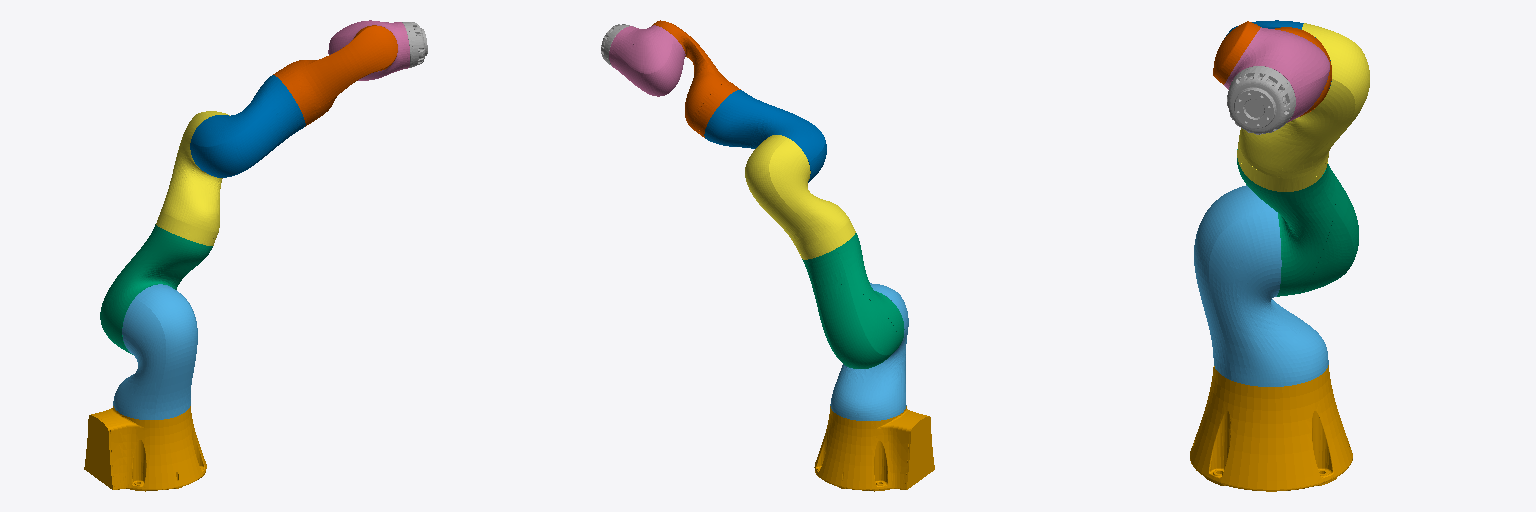
The robot description file, URDF, robot "iiwa_6_DOF_narrowest_range":
<?xml version="1.0" encoding="UTF-8"?>
<robot name="iiwa_6_DOF_narrowest_range">
  <joint name="iiwa_joint_1" type="revolute">
    <origin xyz="0. -0.0093516 0.1575 " rpy="0. 0. 0."/>
    <parent link="world"/>
    <child link="iiwa_link_1"/>
    <axis xyz="0. 0. 1."/>
    <limit lower="-2.0943951" upper="2.0943951" effort="300." velocity="9.9999995"/>
  </joint>
  <joint name="iiwa_joint_2" type="revolute">
    <origin xyz="-0. -0. 0.2025" rpy="1.5707963 -0. -2.9618237"/>
    <parent link="iiwa_link_1"/>
    <child link="iiwa_link_2"/>
    <axis xyz="0. 0. 1."/>
    <limit lower="-1.3089969" upper="1.3089969" effort="300." velocity="9.9999995"/>
  </joint>
  <joint name="iiwa_joint_3" type="revolute">
    <origin xyz="-0.0950602 0.1810629 0. " rpy="1.5707964 -0.0000001 -2.6581364"/>
    <parent link="iiwa_link_2"/>
    <child link="iiwa_link_3"/>
    <axis xyz="0. 0. 1."/>
    <limit lower="-1.3089969" upper="1.3089969" effort="300." velocity="9.9999995"/>
  </joint>
  <joint name="iiwa_joint_4" type="revolute">
    <origin xyz="-0. -0. 0.2154999" rpy="1.5707963 -0.0000001 -0.3577924"/>
    <parent link="iiwa_link_3"/>
    <child link="iiwa_link_4"/>
    <axis xyz="0. 0. 1."/>
    <limit lower="-1.5707963" upper="1.5707963" effort="300." velocity="9.9999995"/>
  </joint>
  <joint name="iiwa_joint_5" type="revolute">
    <origin xyz="0.120556 0.1396656 -0. " rpy="1.5707964 -0. 2.4294987"/>
    <parent link="iiwa_link_4"/>
    <child link="iiwa_link_5"/>
    <axis xyz="0. 0. 1."/>
    <limit lower="-1.5707963" upper="1.5707963" effort="300." velocity="9.9999995"/>
  </joint>
  <joint name="iiwa_joint_6" type="revolute">
    <origin xyz="0. -0. 0.2155" rpy="1.5707964 0.0000001 -0.3647734"/>
    <parent link="iiwa_link_5"/>
    <child link="iiwa_link_6"/>
    <axis xyz="0. 0. 1."/>
    <limit lower="-1.3962634" upper="1.3962634" effort="300." velocity="9.9999995"/>
  </joint>
  <joint name="iiwa_joint_7" type="revolute">
    <origin xyz="-0.0317793 0.0745055 0. " rpy="1.5707963 -0.0000002 -2.738422 "/>
    <parent link="iiwa_link_6"/>
    <child link="iiwa_link_7"/>
    <axis xyz="0. 0. 1."/>
    <limit lower="0." upper="0." effort="300." velocity="9.9999995"/>
  </joint>
  <joint name="root_joint" type="fixed">
    <origin xyz="-0. 0.0093516 -0.0000001" rpy="0. 0. 0."/>
    <parent link="iiwa14"/>
    <child link="world"/>
  </joint>
  <link name="iiwa14"/>
  <link name="iiwa_link_1">
    <inertial>
      <origin xyz="0. -0.03 0.12" rpy="0. 0. 0."/>
      <mass value="4."/>
      <inertia ixx="0.1" ixy="0." ixz="0." iyy="0.09" iyz="0." izz="0.02"/>
    </inertial>
    <visual>
      <origin xyz="-0.0000001 -0. -0. " rpy="0. 0. 0.1797689"/>
      <geometry>
        <mesh filename="meshes/iiwa_link_1_visuals_link_1_mesh.obj" scale="1. 1. 1."/>
      </geometry>
    </visual>
    <visual>
      <origin xyz="-0.0000001 -0. -0. " rpy="0. 0. 0.1797689"/>
      <geometry>
        <mesh filename="meshes/iiwa_link_1_collisions_link_1_mesh.obj" scale="1. 1. 1."/>
      </geometry>
    </visual>
  </link>
  <link name="iiwa_link_2">
    <inertial>
      <origin xyz="0.0003 0.059 0.042 " rpy="0. 0. 0."/>
      <mass value="4."/>
      <inertia ixx="0.05" ixy="0." ixz="0." iyy="0.018" iyz="0." izz="0.044"/>
    </inertial>
    <visual>
      <origin xyz="0. -0.0000001 0. " rpy="-0. 0.0000001 0.4834562"/>
      <geometry>
        <mesh filename="meshes/iiwa_link_2_visuals_link_2_mesh.obj" scale="1. 1. 1."/>
      </geometry>
    </visual>
    <visual>
      <origin xyz="0. -0.0000001 0. " rpy="-0. 0.0000001 0.4834562"/>
      <geometry>
        <mesh filename="meshes/iiwa_link_2_collisions_link_2_mesh.obj" scale="1. 1. 1."/>
      </geometry>
    </visual>
  </link>
  <link name="iiwa_link_3">
    <inertial>
      <origin xyz="0. 0.03 0.13" rpy="0. 0. 0."/>
      <mass value="3."/>
      <inertia ixx="0.08" ixy="0." ixz="0." iyy="0.075" iyz="0." izz="0.01"/>
    </inertial>
    <visual>
      <origin xyz="0. -0. -0.0000001" rpy="-0. -0.0000001 -0.3577924"/>
      <geometry>
        <mesh filename="meshes/iiwa_link_3_visuals_link_3_mesh.obj" scale="1. 1. 1."/>
      </geometry>
    </visual>
    <visual>
      <origin xyz="0. -0. -0.0000001" rpy="-0. -0.0000001 -0.3577924"/>
      <geometry>
        <mesh filename="meshes/iiwa_link_3_collisions_link_3_mesh.obj" scale="1. 1. 1."/>
      </geometry>
    </visual>
  </link>
  <link name="iiwa_link_4">
    <inertial>
      <origin xyz="0. 0.067 0.034" rpy="0. 0. 0."/>
      <mass value="2.7"/>
      <inertia ixx="0.03" ixy="0." ixz="0." iyy="0.01" iyz="0." izz="0.029"/>
    </inertial>
    <visual>
      <origin xyz="-0. 0. -0." rpy="-0.0000001 -0.0000001 -0.7120941"/>
      <geometry>
        <mesh filename="meshes/iiwa_link_4_visuals_link_4_mesh.obj" scale="1. 1. 1."/>
      </geometry>
    </visual>
    <visual>
      <origin xyz="-0. 0. -0." rpy="-0.0000001 -0.0000001 -0.7120941"/>
      <geometry>
        <mesh filename="meshes/iiwa_link_4_collisions_link_4_mesh.obj" scale="1. 1. 1."/>
      </geometry>
    </visual>
  </link>
  <link name="iiwa_link_5">
    <inertial>
      <origin xyz="0.0001 0.021 0.076 " rpy="0. 0. 0."/>
      <mass value="1.7"/>
      <inertia ixx="0.02" ixy="0." ixz="0." iyy="0.018" iyz="0." izz="0.005"/>
    </inertial>
    <visual>
      <origin xyz="0. -0. -0." rpy="0. 0.0000001 -0.3647734"/>
      <geometry>
        <mesh filename="meshes/iiwa_link_5_visuals_link_5_mesh.obj" scale="1. 1. 1."/>
      </geometry>
    </visual>
    <visual>
      <origin xyz="0. -0. -0." rpy="0. 0.0000001 -0.3647734"/>
      <geometry>
        <mesh filename="meshes/iiwa_link_5_collisions_link_5_mesh.obj" scale="1. 1. 1."/>
      </geometry>
    </visual>
  </link>
  <link name="iiwa_link_6">
    <inertial>
      <origin xyz="0. 0.0006 0.0004" rpy="0. 0. 0."/>
      <mass value="1.8"/>
      <inertia ixx="0.005" ixy="0." ixz="0." iyy="0.0036" iyz="0." izz="0.0047"/>
    </inertial>
    <visual>
      <origin xyz="-0. -0. -0." rpy="0.0000001 0.0000001 0.4031708"/>
      <geometry>
        <mesh filename="meshes/iiwa_link_6_visuals_link_6_mesh.obj" scale="1. 1. 1."/>
      </geometry>
    </visual>
    <visual>
      <origin xyz="-0. -0. -0." rpy="0.0000001 0.0000001 0.4031708"/>
      <geometry>
        <mesh filename="meshes/iiwa_link_6_collisions_link_6_mesh.obj" scale="1. 1. 1."/>
      </geometry>
    </visual>
  </link>
  <link name="iiwa_link_7">
    <inertial>
      <origin xyz="0. 0. 0.02" rpy="0. 0. 0."/>
      <mass value="0.3"/>
      <inertia ixx="0.001" ixy="0." ixz="0." iyy="0.001" iyz="0." izz="0.001"/>
    </inertial>
    <visual>
      <origin xyz="-0. -0. 0." rpy="0.0000001 -0. -0. "/>
      <geometry>
        <mesh filename="meshes/iiwa_link_7_visuals_link_7_mesh.obj" scale="1. 1. 1."/>
      </geometry>
    </visual>
    <visual>
      <origin xyz="-0. -0. 0." rpy="0.0000001 -0. -0. "/>
      <geometry>
        <mesh filename="meshes/iiwa_link_7_collisions_link_7_mesh.obj" scale="1. 1. 1."/>
      </geometry>
    </visual>
  </link>
  <link name="world">
    <inertial>
      <origin xyz="-0.1 0. 0.07" rpy="0. 0. 0."/>
      <mass value="5."/>
      <inertia ixx="0.05" ixy="0." ixz="0." iyy="0.06" iyz="0." izz="0.03"/>
    </inertial>
    <visual>
      <origin xyz="0. -0.0093516 0.0000001" rpy="0. 0. 0."/>
      <geometry>
        <mesh filename="meshes/world_visuals_link_0_mesh.obj" scale="1. 1. 1."/>
      </geometry>
    </visual>
    <visual>
      <origin xyz="0. -0.0093516 0.0000001" rpy="0. 0. 0."/>
      <geometry>
        <mesh filename="meshes/world_collisions_link_0_mesh.obj" scale="1. 1. 1."/>
      </geometry>
    </visual>
  </link>
</robot>

--- What the picture shows (computed from the rendered views, not written in the file) ---
3 views of the same robot in one strip: view 1: azimuth 30°, elevation 25°; view 2: azimuth 150°, elevation 25°; view 3: azimuth 270°, elevation 25° (orthographic).
Model iiwa_6_DOF_narrowest_range with 9 links and 8 joints (7 revolute, 1 fixed), rooted at iiwa14, posed all joints at 0.
Links seen in each view (by area): view 1: iiwa_link_1, world, iiwa_link_4, iiwa_link_5, iiwa_link_2, iiwa_link_3, iiwa_link_6, iiwa_link_7; view 2: iiwa_link_2, world, iiwa_link_3, iiwa_link_4, iiwa_link_1, iiwa_link_6, iiwa_link_5; view 3: iiwa_link_1, world, iiwa_link_3, iiwa_link_2, iiwa_link_6, iiwa_link_7, iiwa_link_5.
Link boxes in pixels (x1=…): iiwa_link_1: x1=113, y1=284, x2=197, y2=419; world: x1=84, y1=406, x2=206, y2=491; iiwa_link_4: x1=190, y1=75, x2=305, y2=177; iiwa_link_5: x1=273, y1=25, x2=397, y2=126; iiwa_link_2: x1=100, y1=224, x2=212, y2=354; iiwa_link_3: x1=156, y1=111, x2=229, y2=245; iiwa_link_6: x1=328, y1=20, x2=409, y2=80; iiwa_link_7: x1=402, y1=22, x2=427, y2=67; iiwa_link_2: x1=802, y1=233, x2=904, y2=368; world: x1=814, y1=406, x2=934, y2=491; iiwa_link_3: x1=745, y1=135, x2=855, y2=259; iiwa_link_4: x1=704, y1=90, x2=826, y2=182; iiwa_link_1: x1=830, y1=283, x2=908, y2=420; iiwa_link_6: x1=609, y1=25, x2=685, y2=96; iiwa_link_5: x1=652, y1=20, x2=740, y2=137; iiwa_link_1: x1=1194, y1=185, x2=1328, y2=386; world: x1=1190, y1=365, x2=1352, y2=491; iiwa_link_3: x1=1237, y1=23, x2=1369, y2=191; iiwa_link_2: x1=1237, y1=149, x2=1358, y2=296; iiwa_link_6: x1=1224, y1=27, x2=1329, y2=122; iiwa_link_7: x1=1227, y1=66, x2=1295, y2=134; iiwa_link_5: x1=1213, y1=21, x2=1331, y2=116.
Bounding box of the posed robot: 0.8257 × 0.2688 × 0.9672 m (x, y, z).
15 mesh visuals loaded from 16 distinct referenced files (15 OBJ); not drawn: 1 (reference not matched to a file when rendering).
